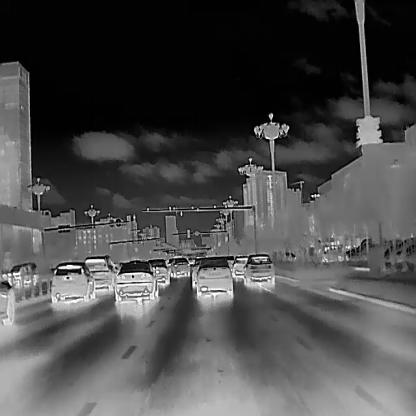car: (50, 261, 96, 304), (114, 260, 156, 304), (195, 257, 232, 299), (83, 254, 115, 292), (243, 252, 274, 285), (9, 262, 36, 286), (0, 277, 14, 322), (147, 257, 168, 284), (190, 258, 206, 290), (229, 254, 250, 278), (168, 257, 188, 277)
